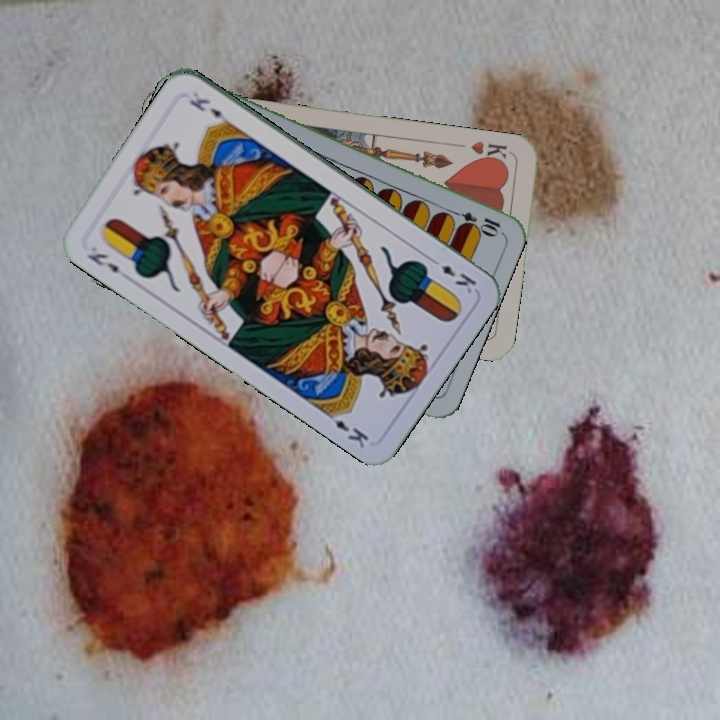E10: (445, 205, 504, 237)
EK: (425, 253, 479, 296), (83, 248, 131, 283)
HK: (467, 137, 514, 167)
